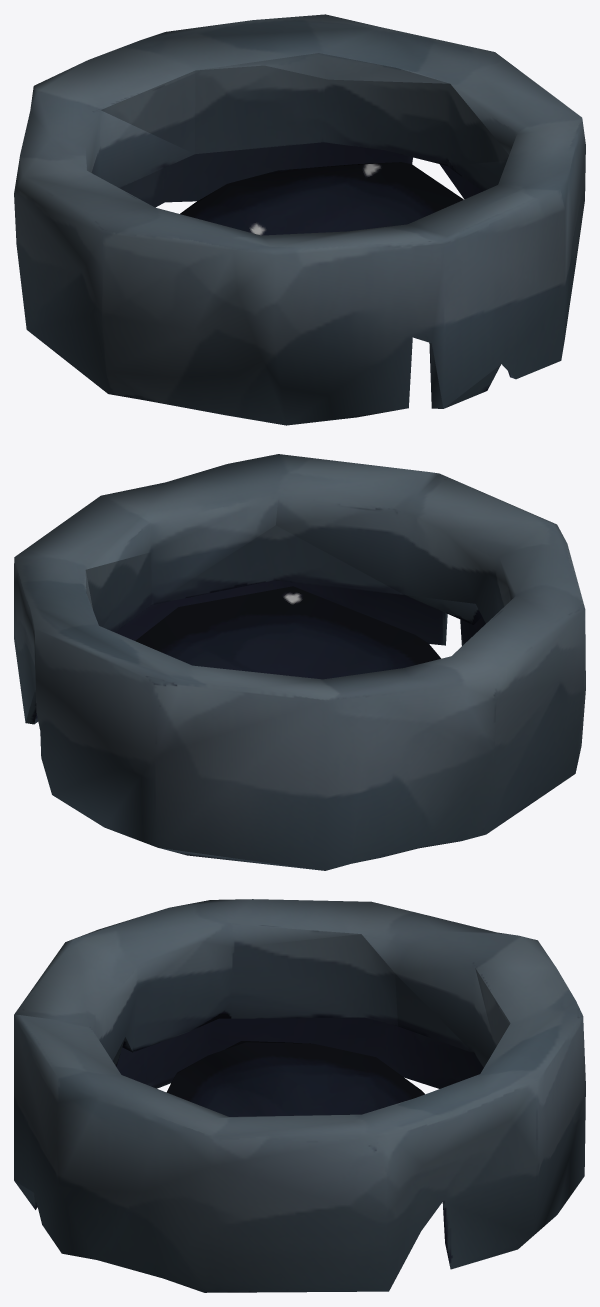
The model's file is black-sea-pool.glb.
3 views of the same model, one above another, from view 1: azimuth 30°, elevation 25°; view 2: azimuth 150°, elevation 25°; view 3: azimuth 270°, elevation 25° (orthographic).
Parts seen in each view (by area): view 1: geometry_0.001; view 2: geometry_0.001; view 3: geometry_0.001.
Part boxes in pixels (x1,y1,x2,y2): geometry_0.001: (14,14,585,425); geometry_0.001: (14,454,585,870); geometry_0.001: (14,899,585,1292).
Size of the model in its own units: 0.9787 by 0.342 by 1.
1 material, 1 textured.
